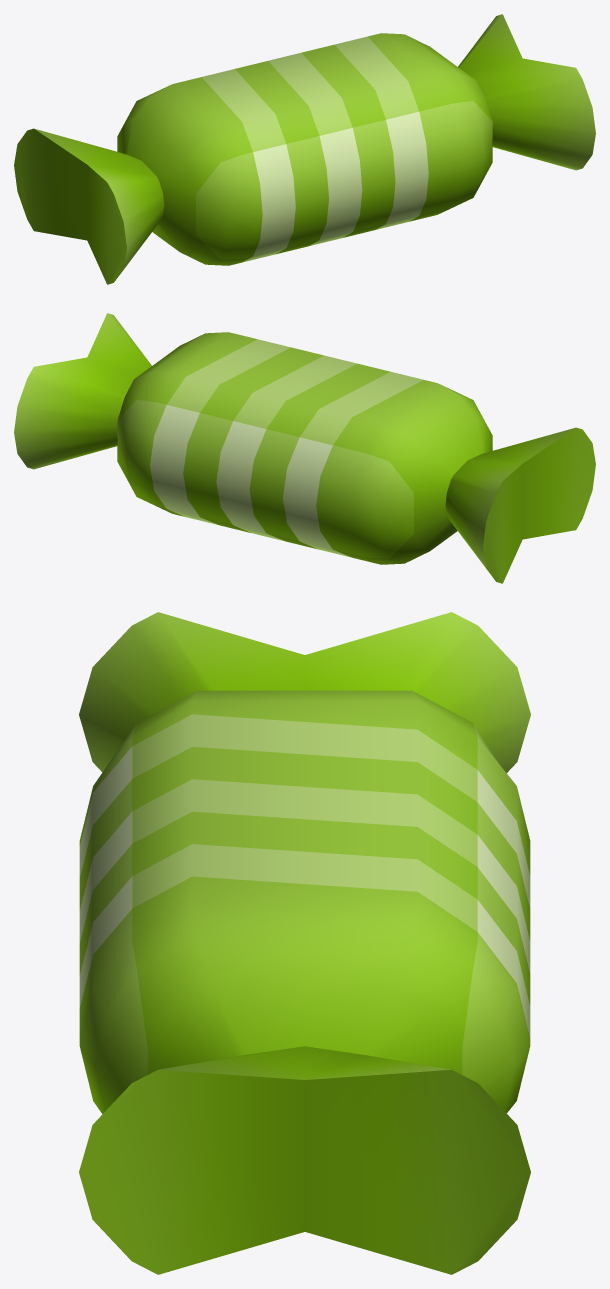
Rendered from Candy_Green_01.fbx.
3 renders of one model, top to bottom at view 1: azimuth 30°, elevation 25°; view 2: azimuth 150°, elevation 25°; view 3: azimuth 270°, elevation 25°, orthographic. The views are drawn at different scales.
Visible parts, largest first — view 1: Candy_Green_01; view 2: Candy_Green_01; view 3: Candy_Green_01.
Boxes of the visible parts, x1=… form: Candy_Green_01: x1=14, y1=14, x2=595, y2=284; Candy_Green_01: x1=14, y1=313, x2=595, y2=583; Candy_Green_01: x1=79, y1=612, x2=530, y2=1274.
Size of the model in its own units: 225 by 64.37 by 93.93.
